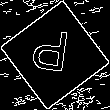P_S: (33, 27, 77, 83)
